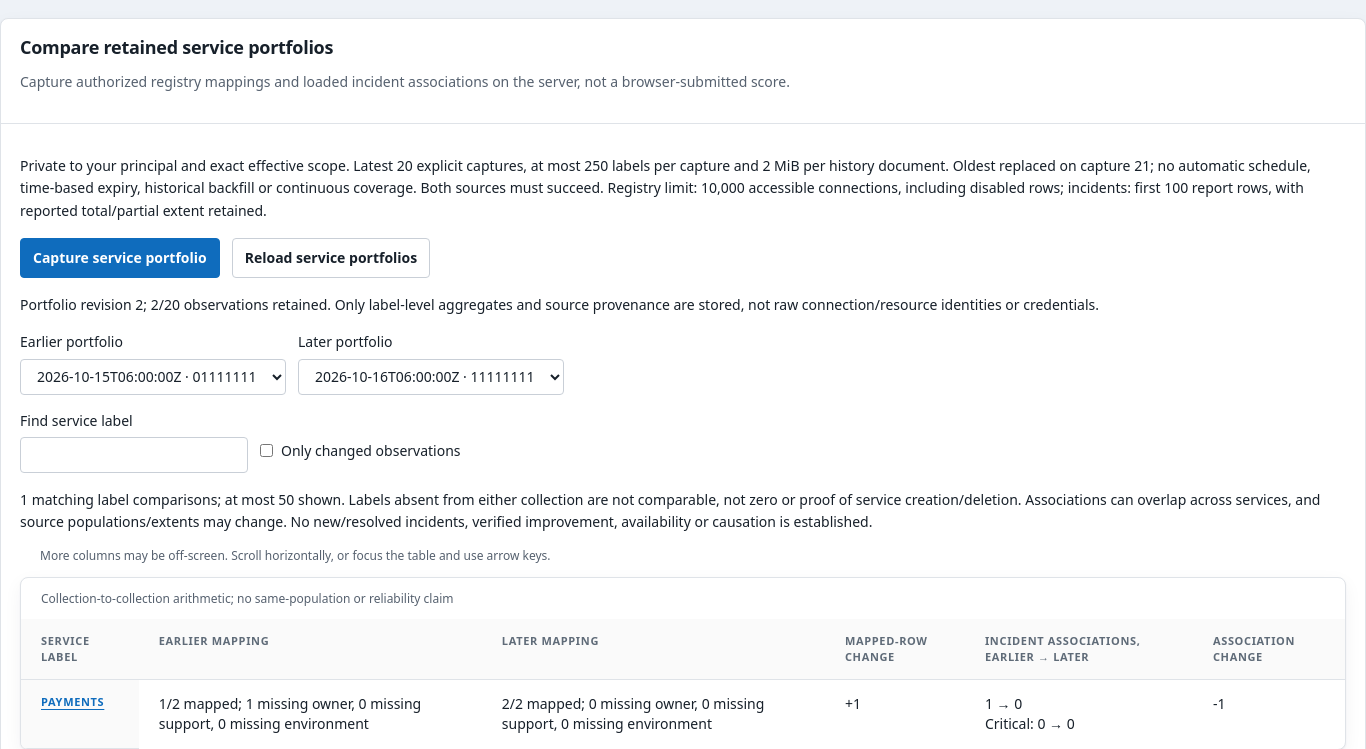
Retained service portfolio › captures only with explicit action, reviewed revision and exact scope
The image size is (1366, 749).
Check: the text "Portfolio revision 2" is shown, box [20,295,1099,314]
Click the button "Capture service portfolio": (120, 258) [20,238,220,278]
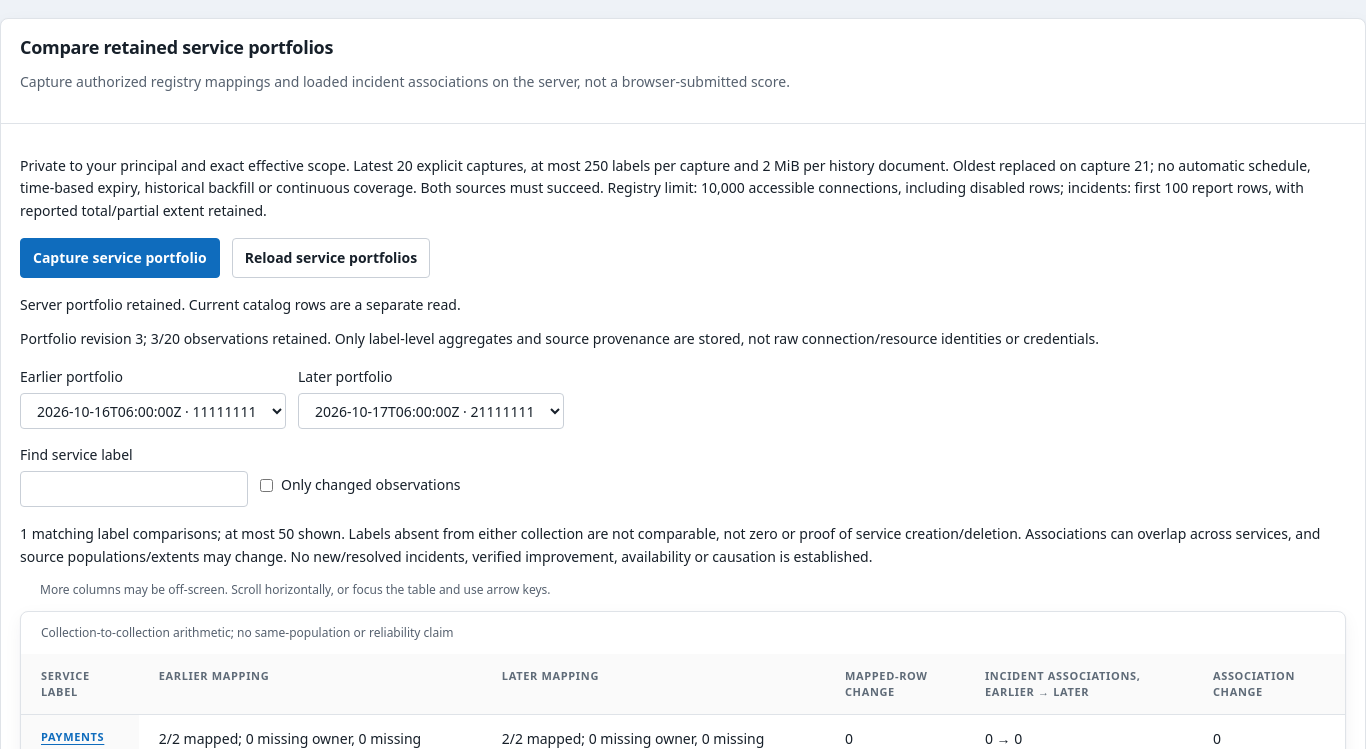
Check: the text "Server portfolio retained. Current catalog rows are a separate read." is shown, box [20,295,461,314]
Check: the text "Portfolio revision 3" is shown, box [20,329,1099,348]
